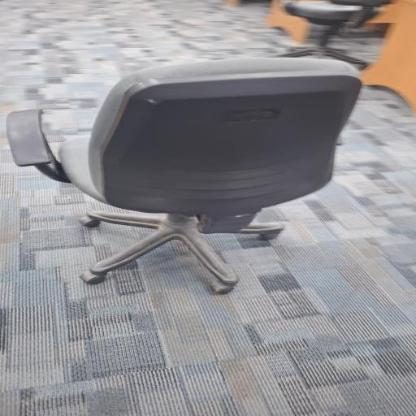chair: (6, 50, 375, 306)
